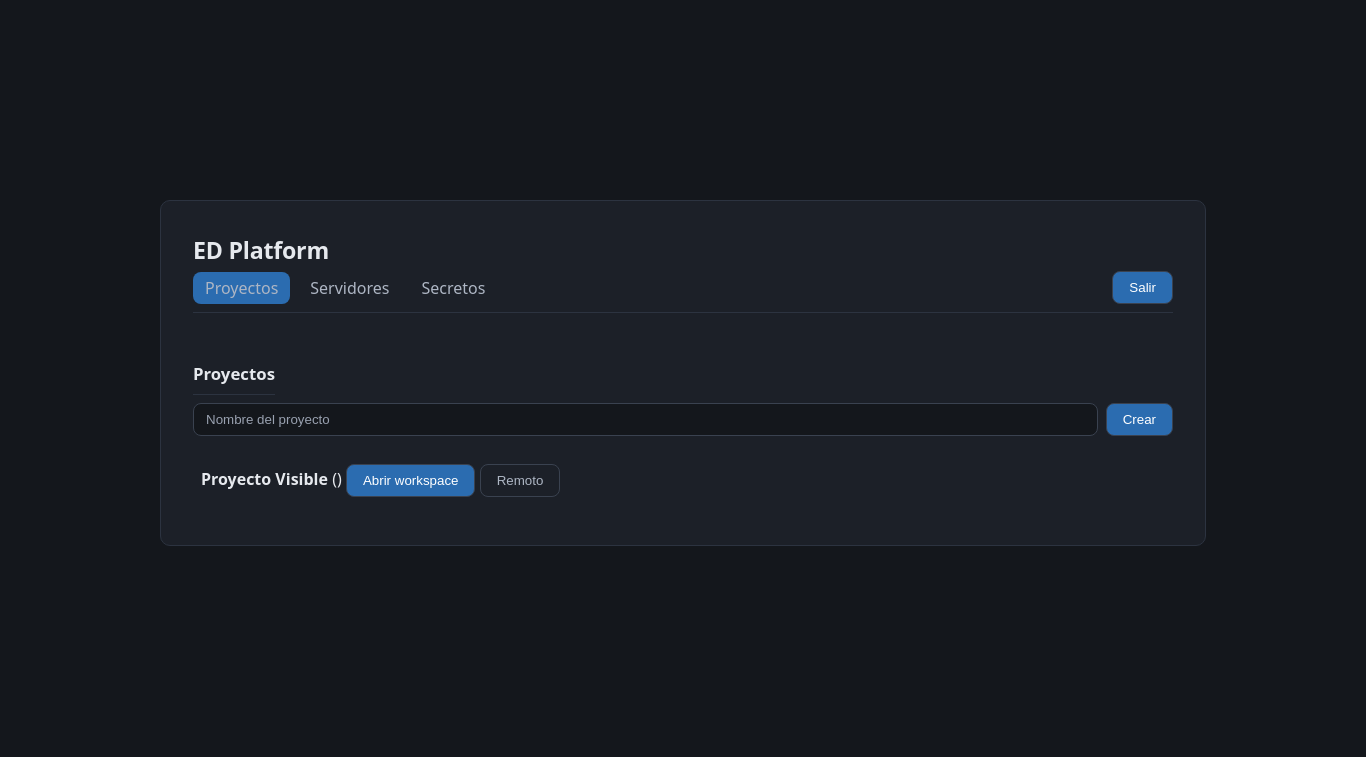
App › navegación del shell (F4-6b) › navega a Servidores y muestra su panel
This screenshot has width=1366, height=757.
Expected: the text "Proyecto Visible" is shown, [201, 468, 328, 490]
Click the link "Servidores".
click(350, 288)  # box [310, 277, 390, 299]
(page scrolled)
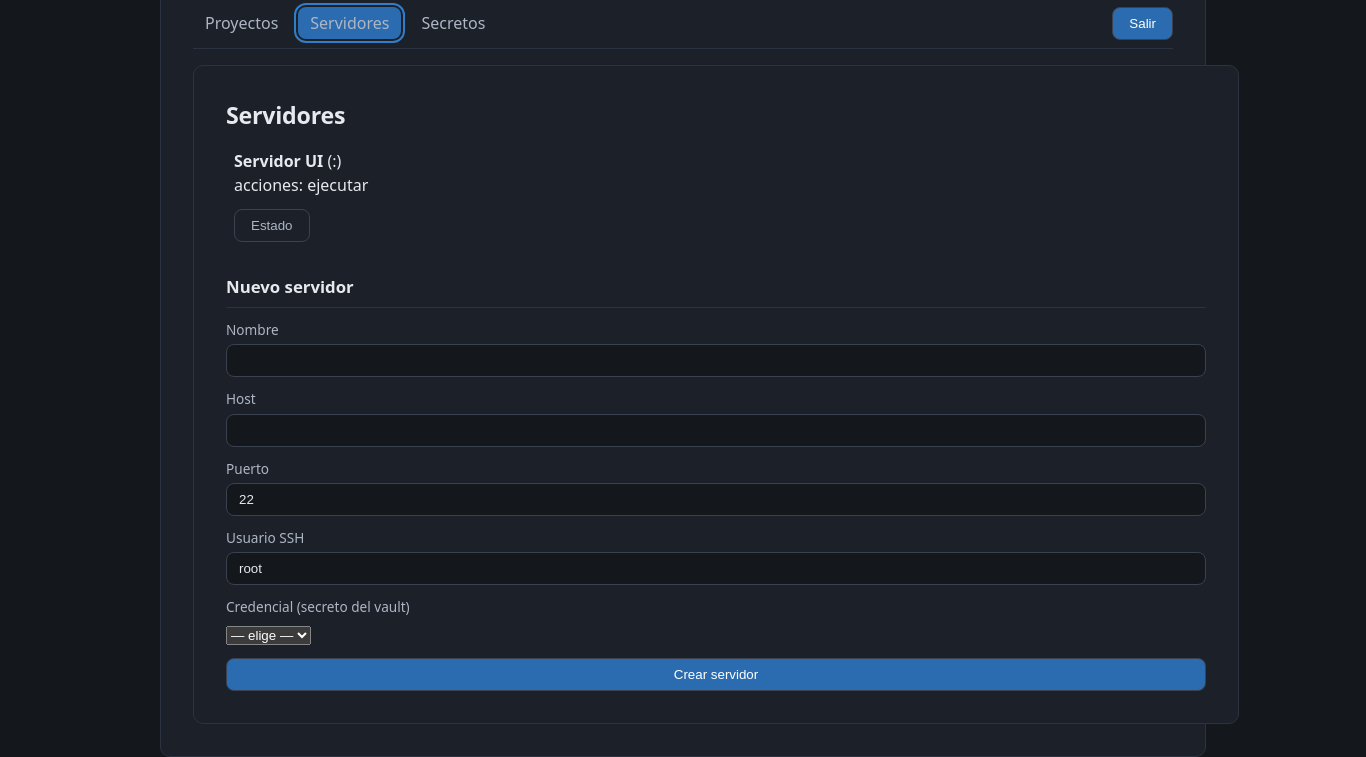
Expected: the element with test id "panel-servidores" is shown
Expected: the text "Proyecto Visible" is gone
